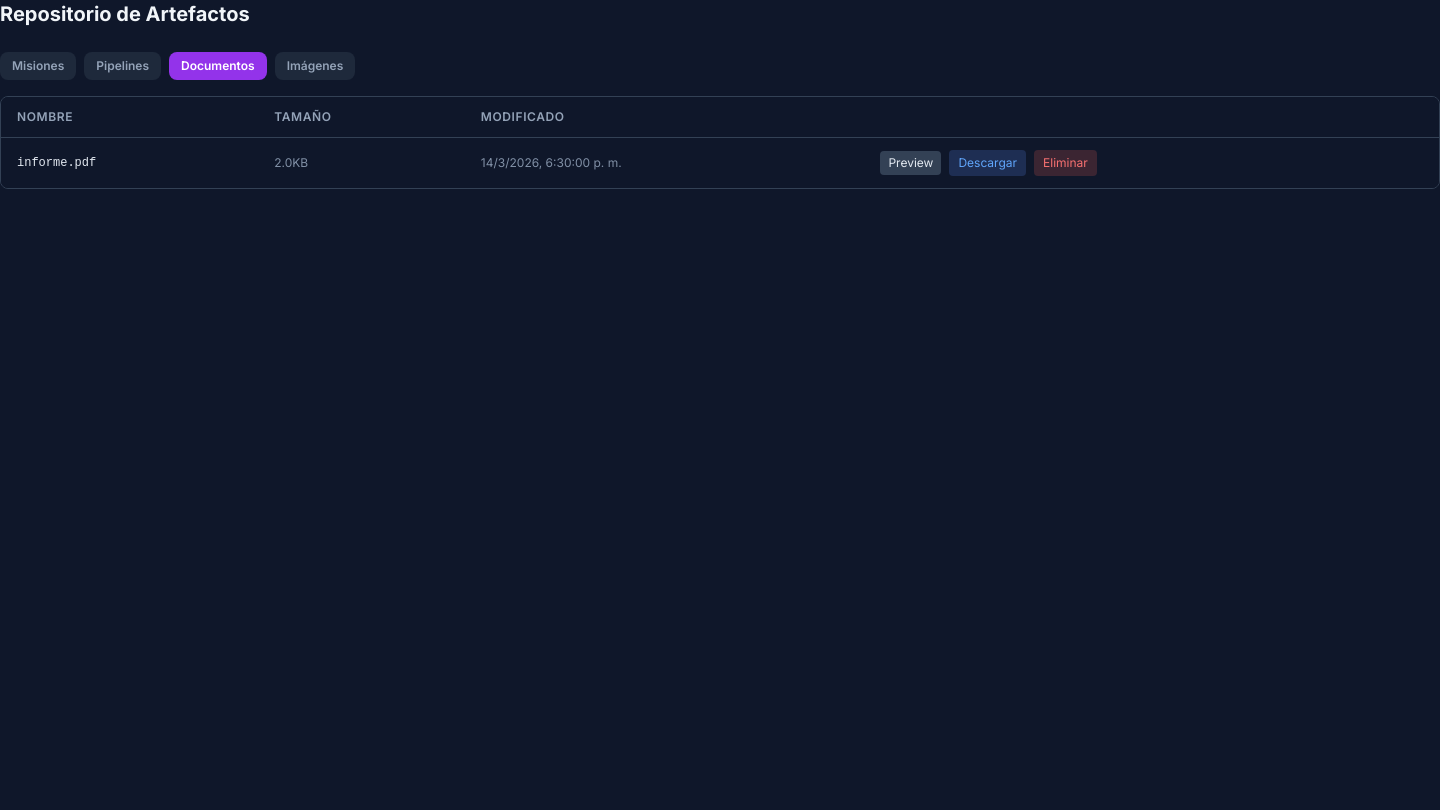
Scenario: AdminRepository -- borrar pasa por ConfirmacionSuma, no por window.confirm › Cancelar no borra
Click the button "Eliminar". click: (1065, 163)
box: [1034,150,1097,176]
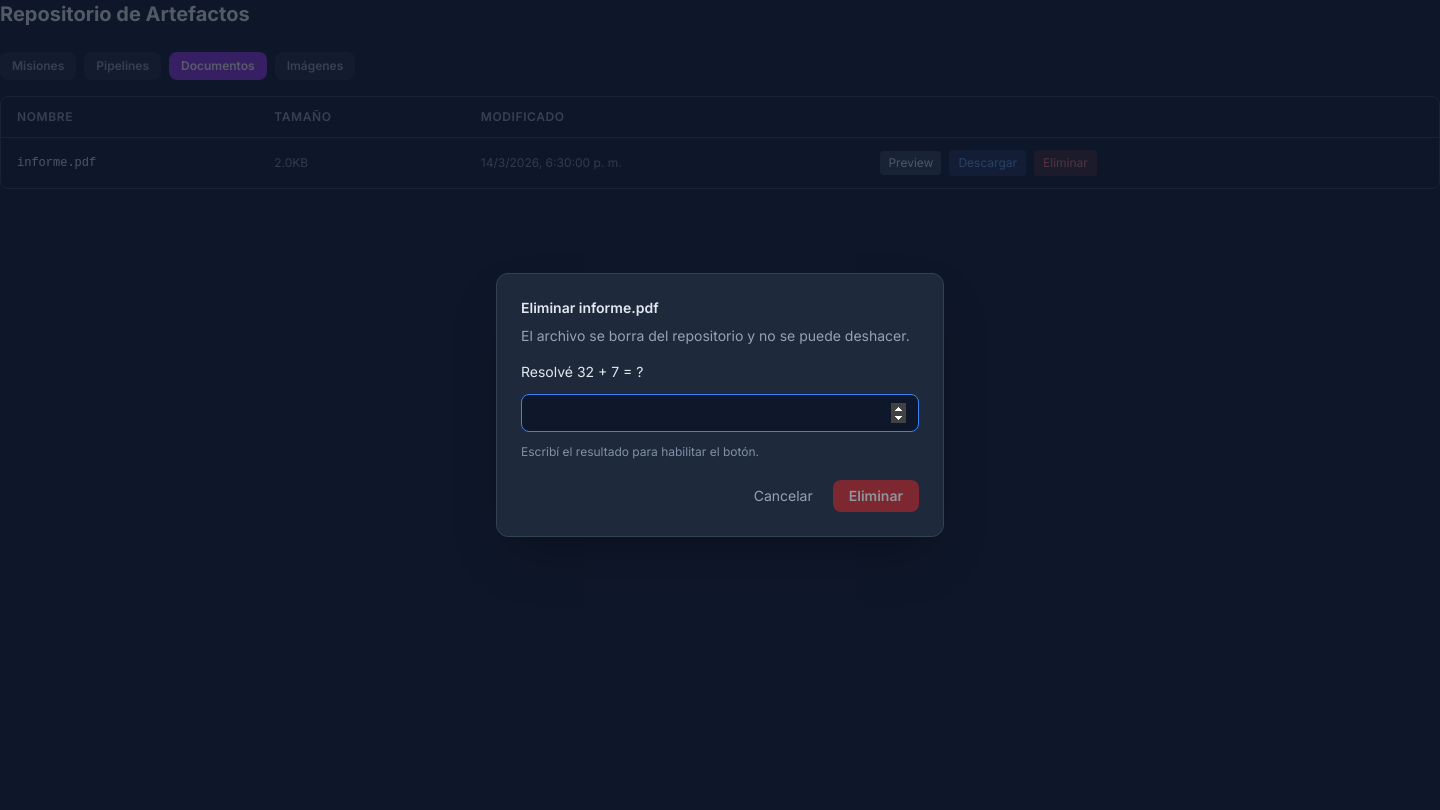
Click the button "Cancelar". click: (783, 496)
box: [742,480,825,512]
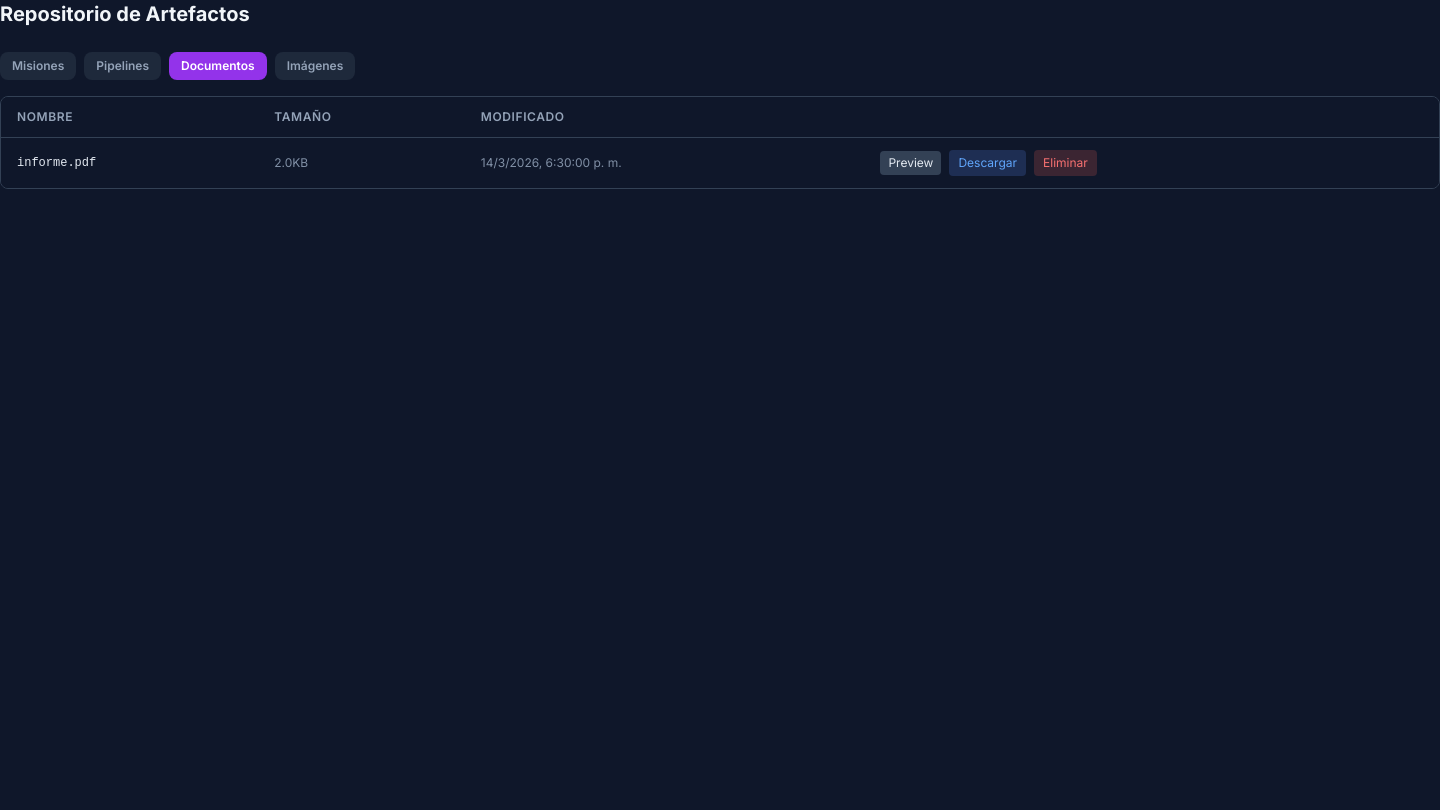
Check: the dialog is gone
